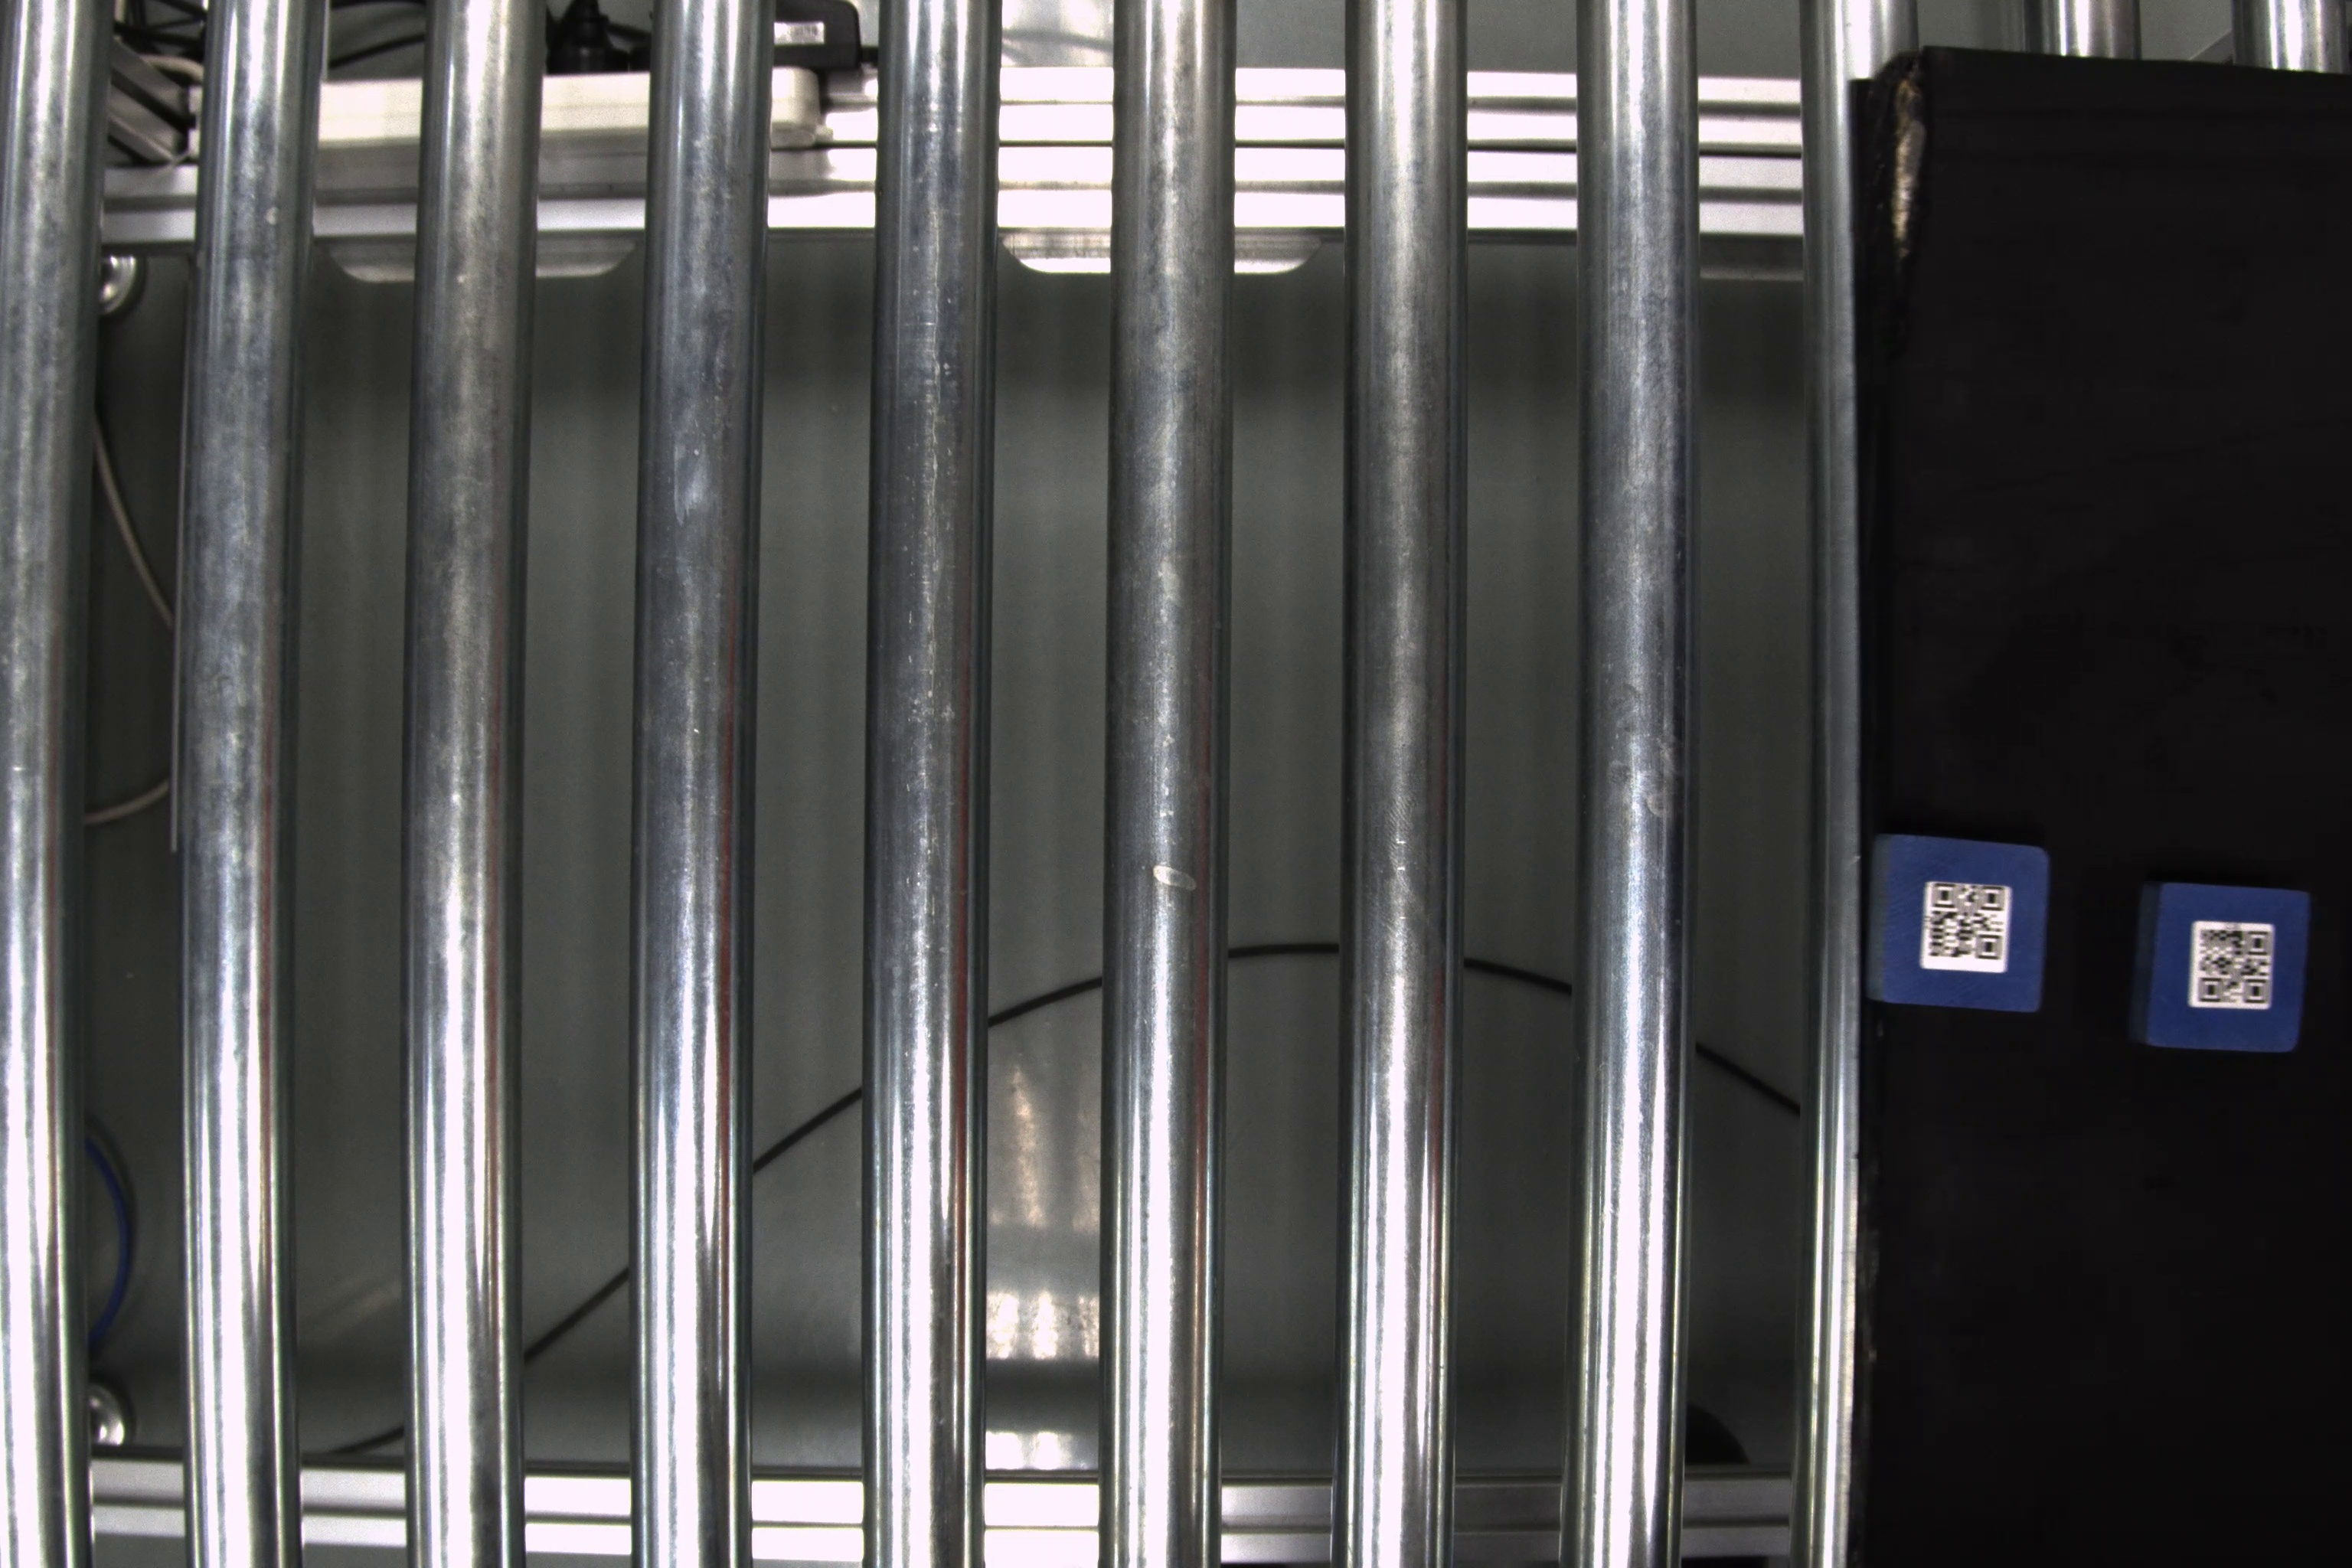wood: (1862, 826, 2051, 1015), (2131, 875, 2317, 1059)
